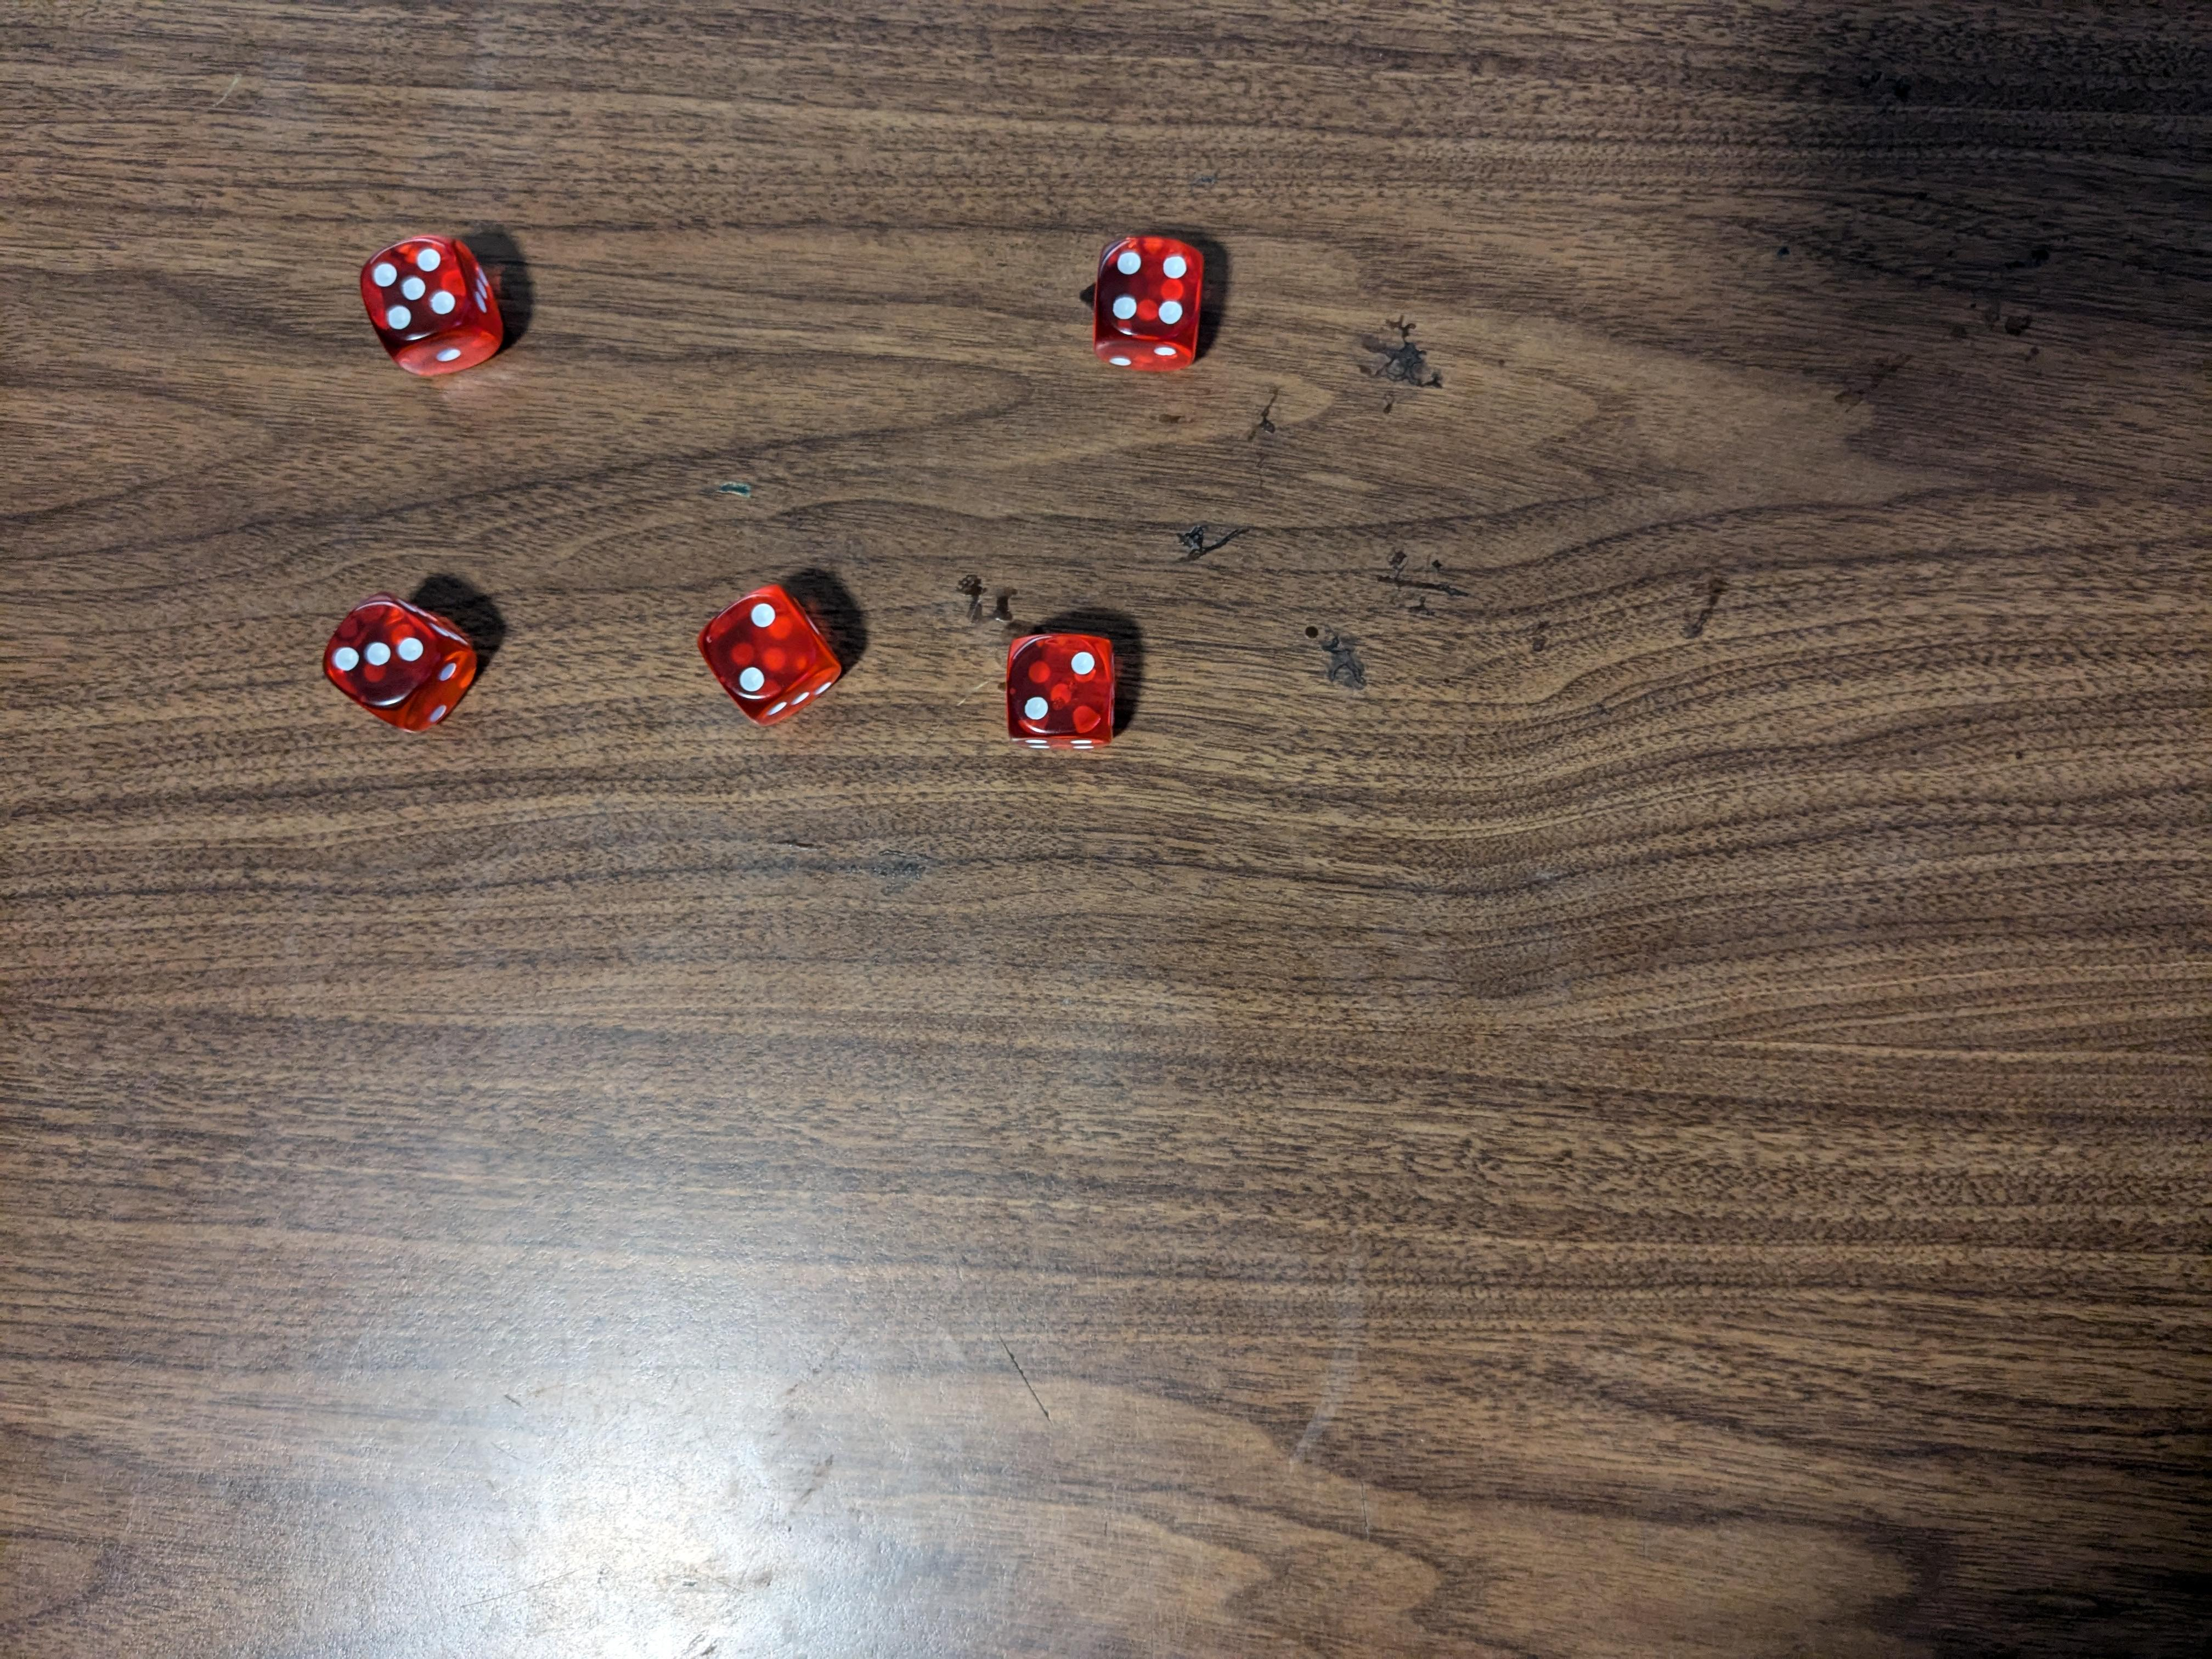five: (354, 232, 507, 375)
four: (1092, 225, 1211, 366)
three: (326, 589, 486, 742)
two: (702, 575, 848, 728), (1003, 626, 1120, 755)
